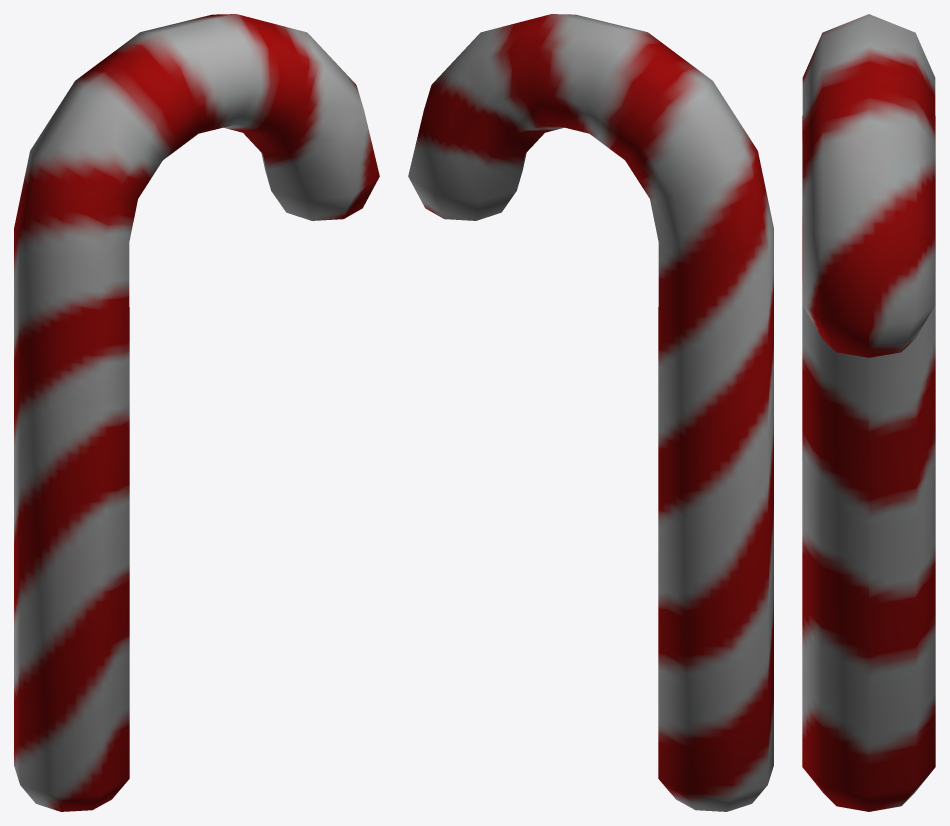
The model's file is Candy-Cane.glb.
3 renders of one model, left to right at view 1: azimuth 30°, elevation 25°; view 2: azimuth 150°, elevation 25°; view 3: azimuth 270°, elevation 25°, orthographic. The views are drawn at different scales.
Parts seen in each view (by area): view 1: geometry_0; view 2: geometry_0; view 3: geometry_0.
Boxes of the visible parts, x1,y1,x2,y2 form: geometry_0: (14,14,379,811); geometry_0: (408,14,773,811); geometry_0: (802,14,935,811).
Size of the model in its own units: 2.02 by 4.11 by 0.5917.
Materials: 1 (1 with a texture image).
